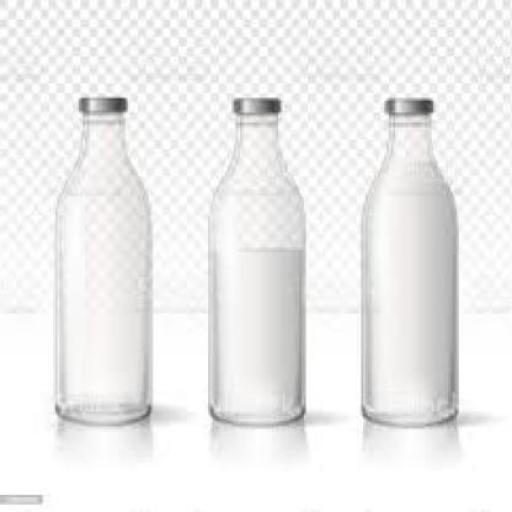glass: (356, 110, 455, 424), (50, 110, 149, 422), (206, 113, 304, 424)
metal: (382, 93, 432, 115), (232, 95, 276, 115), (79, 93, 123, 105)
